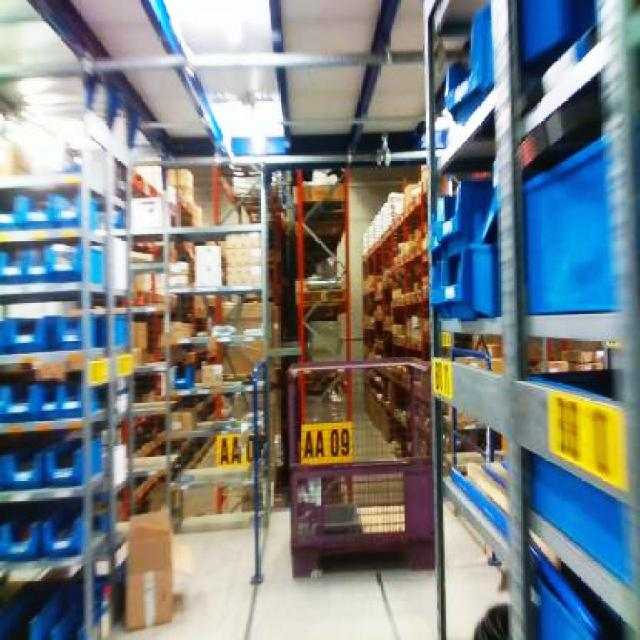ground: (98, 502, 511, 638)
pallet: (422, 0, 638, 638), (0, 149, 271, 638), (0, 152, 126, 638), (125, 166, 271, 528), (285, 355, 435, 578), (360, 166, 431, 458), (291, 172, 349, 394)
